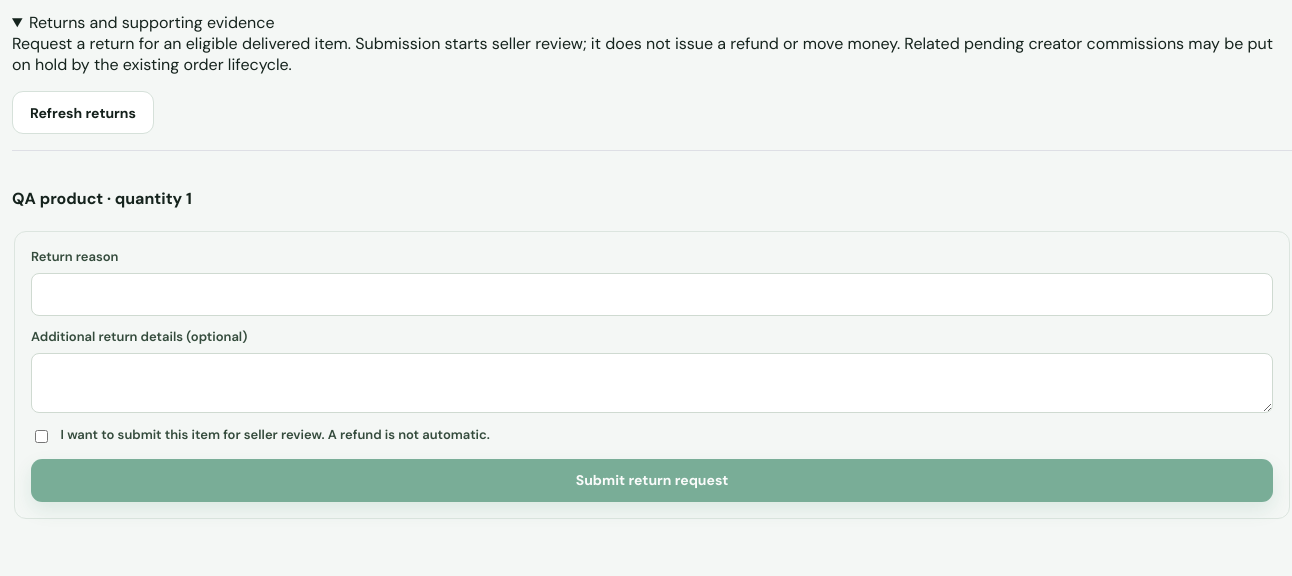
Buyer returns UI › requires acknowledgment, retains draft on rejection, and never claims an automatic refund
The image size is (1292, 576).
Type "Damaged item" into the field labelled "Return reason" at point(652, 294), box [31,272,1273,316]
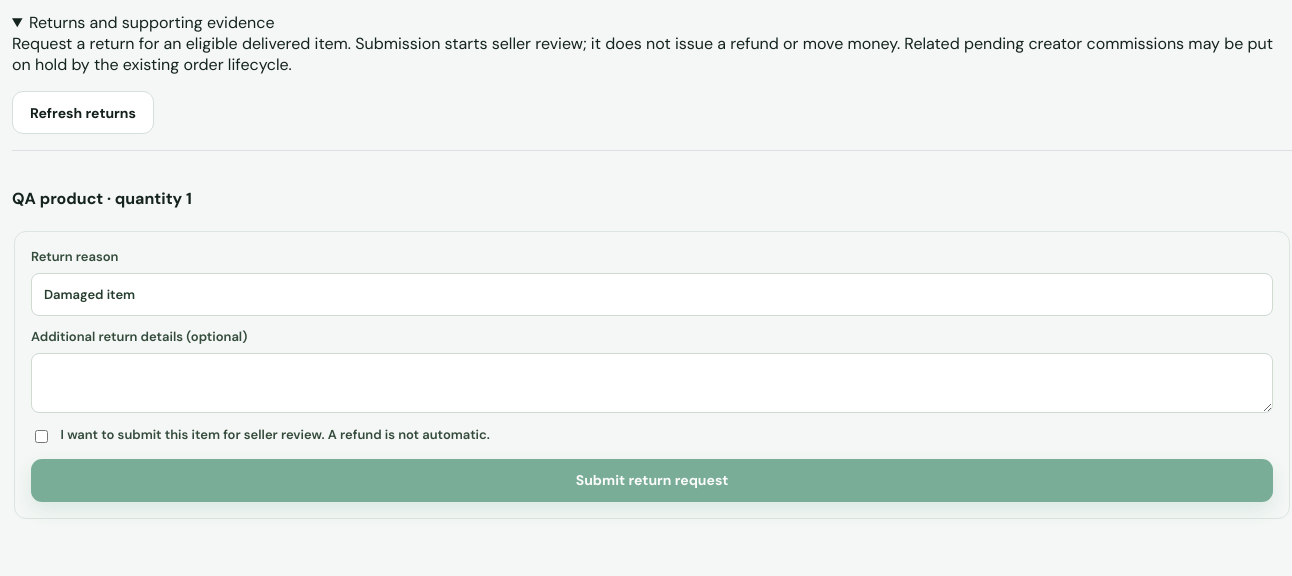
expect the button "Submit return request" is disabled: met, box [31,459,1273,502]
Click the checkbox at point(42, 437), box [35,430,48,443]
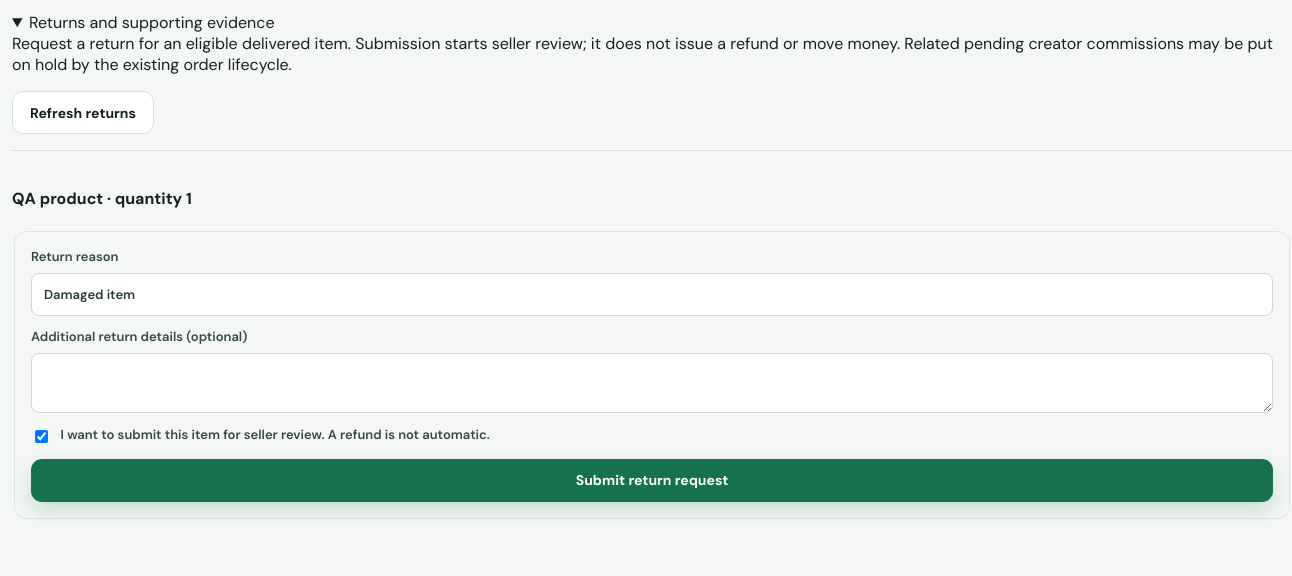
Submit the form labelled "Return reason", box [12,230,1291,519]
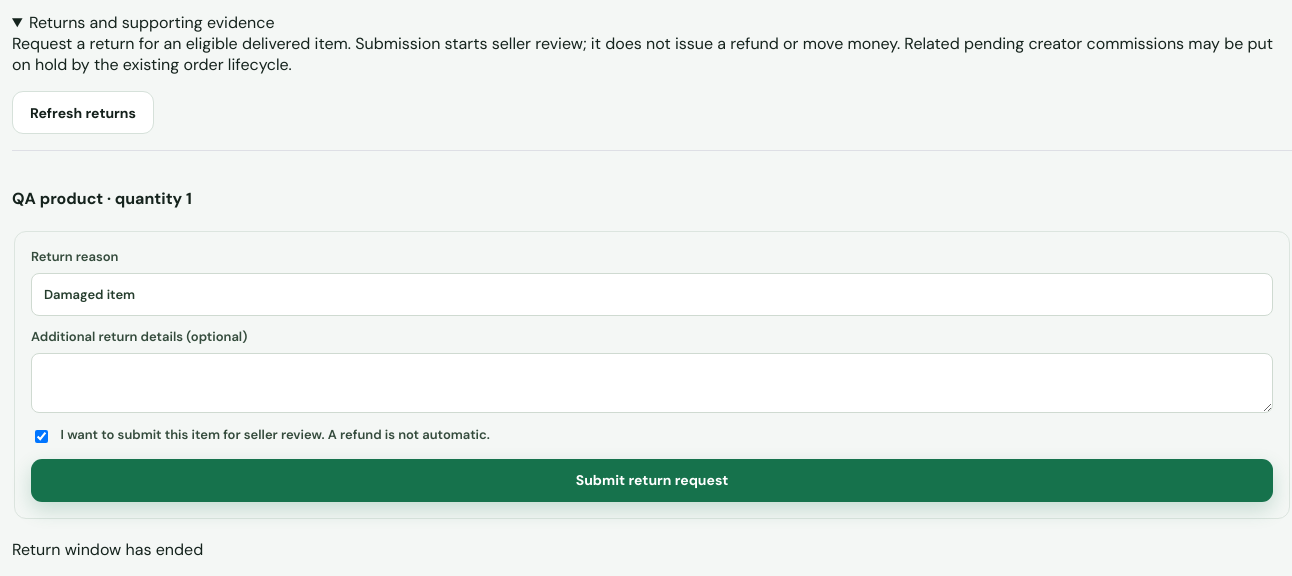
expect the text "does not issue a refund" is shown: met, box [12,33,1273,75]
expect the message reads "Return window has ended": met, box [12,539,203,560]
